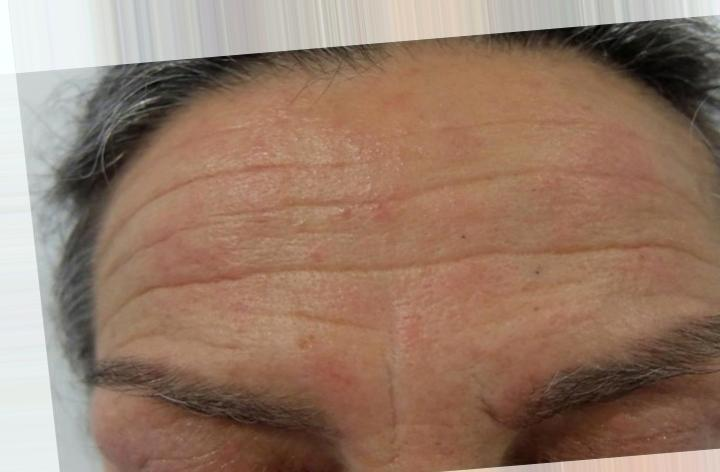Contact Dermatitis: (131, 166, 685, 358)
